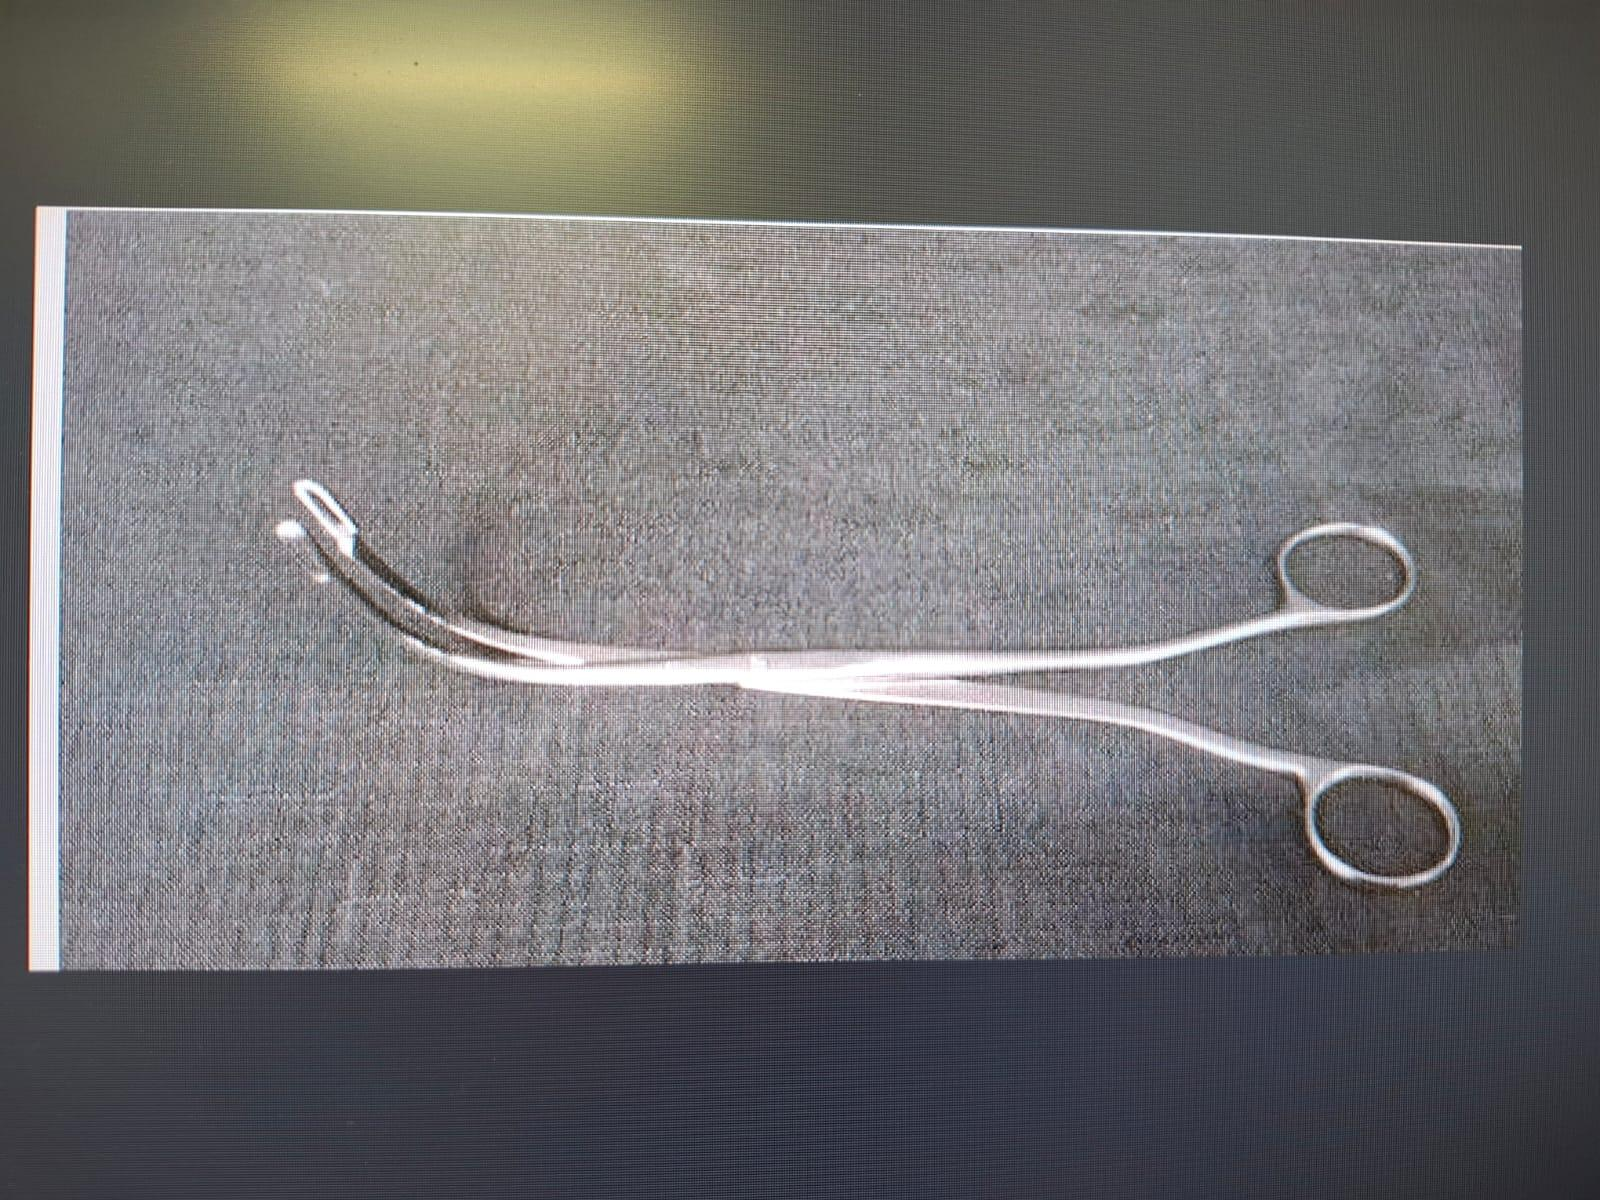Randall Forceps: (266, 453, 1460, 900)
